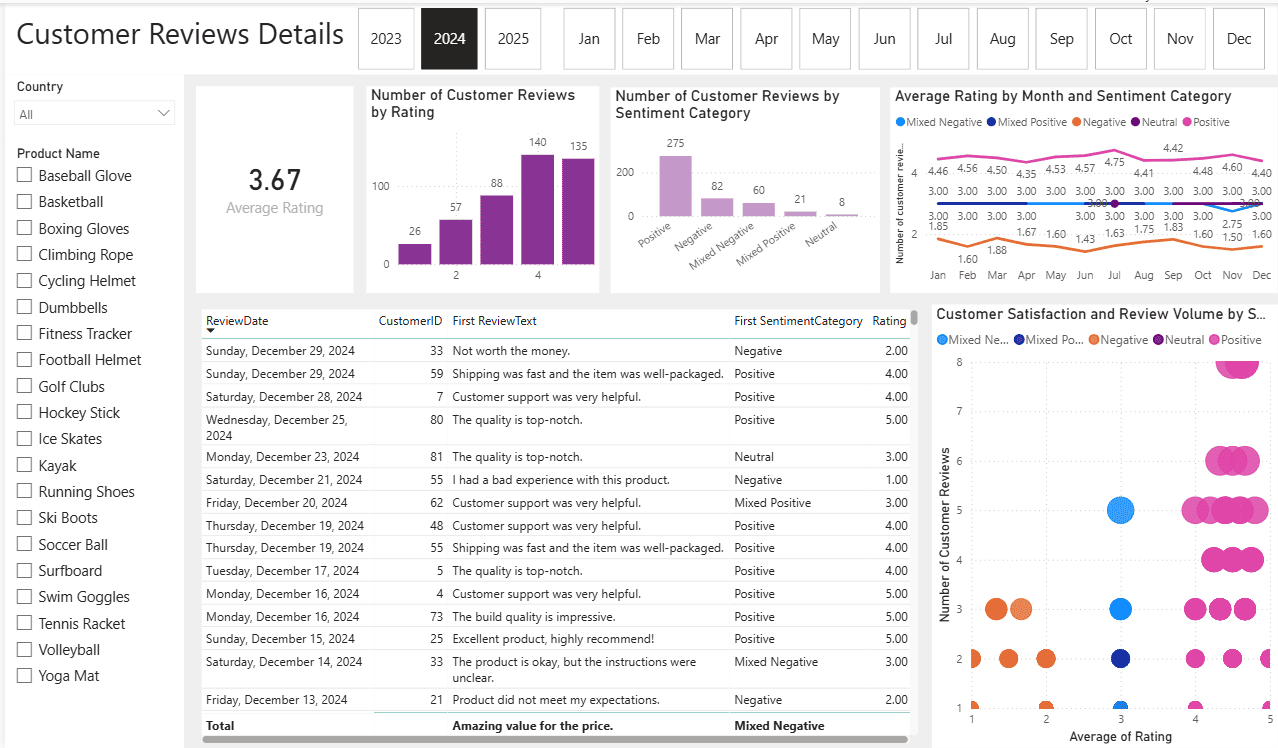

The dashboard page shown, as its layout file describes it:
{"tool":"powerbi","page":{"name":"Customer Reviews Details","canvas":[1400,820],"ordinal":3},"visuals":[{"type":"textbox","box":[0,0,1400.3,78.7],"z":0},{"type":"slicer","fields":{"Values":["dim_product.ProductName"]},"box":[0,151.4,197.1,668.6],"z":1000},{"type":"advancedSlicerVisual","fields":{"Values":["Date.Year"]},"box":[382.9,0,212.9,78.6],"z":2000},{"type":"advancedSlicerVisual","fields":{"Values":["Date.MonthNameShort"]},"box":[610,0,790,78.6],"z":3000},{"type":"cardVisual","fields":{"Data":["_mesures.Average Rating"]},"box":[210.3,91.5,173.1,227.4],"z":4000},{"type":"clusteredColumnChart","title":"Number of Customer Reviews by Rating","fields":{"Category":["fact_customer_reviews.Rating"],"Y":["CountNonNull(fact_customer_reviews.CustomerID)"]},"box":[397.3,91.1,256,227.4],"z":5000},{"type":"clusteredColumnChart","title":"Number of Customer Reviews by Sentiment Category ","fields":{"Category":["fact_customer_reviews_with_sentiment.SentimentCategory"],"Y":["CountNonNull(fact_customer_reviews_with_sentiment.CustomerID)"]},"box":[666.2,92.5,296.1,226],"z":6000},{"type":"lineChart","title":"Average Rating by Month and Sentiment Category","fields":{"Category":["Date.MonthNameShort"],"Series":["fact_customer_reviews_with_sentiment.SentimentCategory"],"Y":["Avg(fact_customer_reviews_with_sentiment.Rating)"]},"box":[973.7,92.5,426.2,226],"z":7000},{"type":"tableEx","fields":{"Values":["fact_customer_reviews_with_sentiment.ReviewDate","fact_customer_reviews_with_sentiment.CustomerID","Min(fact_customer_reviews_with_sentiment.ReviewText)","Min(fact_customer_reviews_with_sentiment.SentimentCategory)","fact_customer_reviews_with_sentiment.Rating"]},"box":[210.3,331.8,799.6,487.8],"z":8000},{"type":"scatterChart","title":"Customer Satisfaction and Review Volume by Sentiment","fields":{"Category":["dim_customer.CustomerID"],"Y":["_mesures.Number of Customer Reviews"],"X":["Avg(fact_customer_reviews_with_sentiment.Rating)"],"Series":["fact_customer_reviews_with_sentiment.SentimentCategory"],"Size":["_mesures.Number of Customer Reviews"]},"box":[1019.8,331.8,380.5,487.8],"z":9000},{"type":"slicer","fields":{"Values":["dim_customer.Country"]},"box":[0,78.6,197.1,72.9],"z":10000}]}

Visuals, with their boxes in screenshot pixels (x1, y1, x2, y2), scaled from the page's 1400x820 canvas onto the 1278x748 screenshot:
textbox: [0, 0, 1277, 72]
slicer - dim_product.ProductName: [0, 138, 180, 747]
advancedSlicerVisual - Date.Year: [350, 0, 544, 72]
advancedSlicerVisual - Date.MonthNameShort: [557, 0, 1277, 72]
cardVisual - _mesures.Average Rating: [192, 83, 350, 291]
"Number of Customer Reviews by Rating" clusteredColumnChart: [363, 83, 596, 291]
"Number of Customer Reviews by Sentiment Category " clusteredColumnChart: [608, 84, 878, 291]
"Average Rating by Month and Sentiment Category" lineChart: [889, 84, 1277, 291]
tableEx - fact_customer_reviews_with_sentiment.ReviewDate x fact_customer_reviews_with_sentiment.CustomerID: [192, 303, 922, 747]
"Customer Satisfaction and Review Volume by Sentiment" scatterChart: [931, 303, 1277, 747]
slicer - dim_customer.Country: [0, 72, 180, 138]
